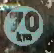Speed limit: (2, 3, 44, 46)
